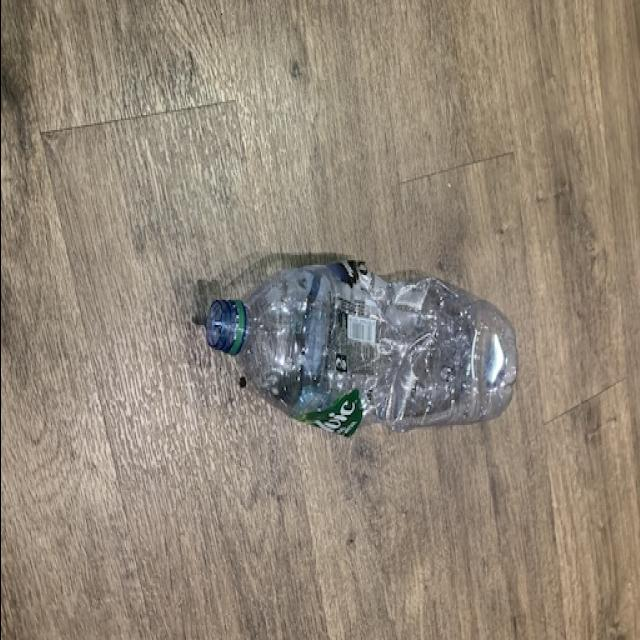PET: (196, 257, 522, 435)
